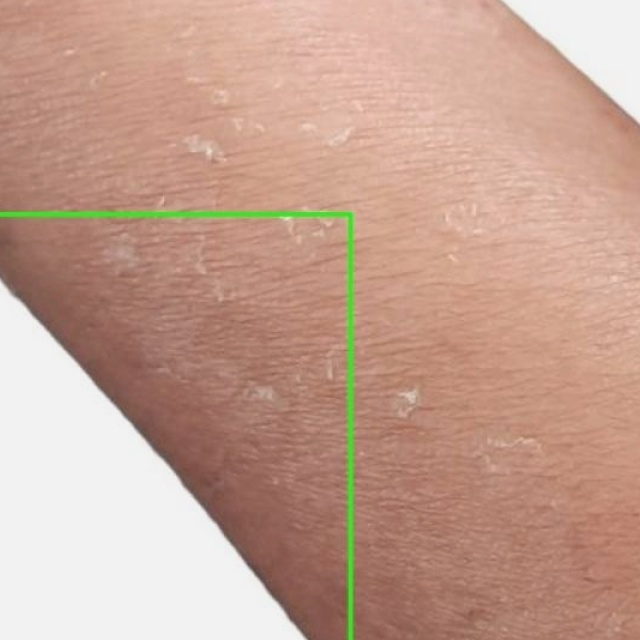Tinea Corporis: (0, 214, 350, 639)
